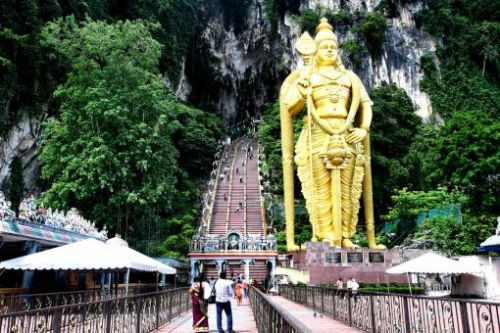Hindu Temple: (275, 12, 384, 247)
